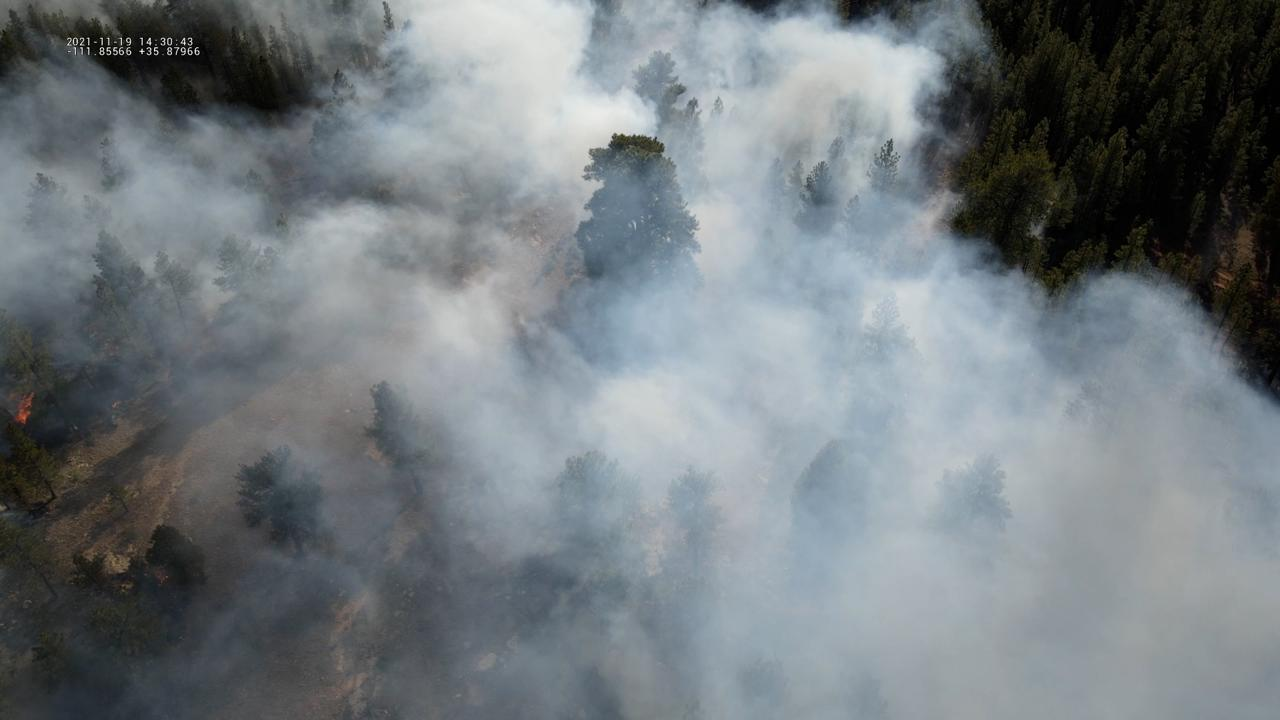fire: (13, 390, 38, 428), (151, 567, 169, 584)
smoke: (0, 0, 1280, 720)
